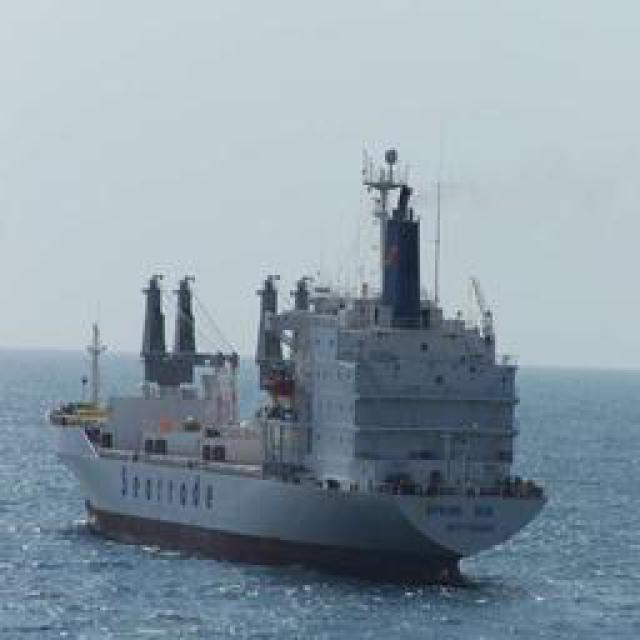Ship: (57, 121, 540, 586)
